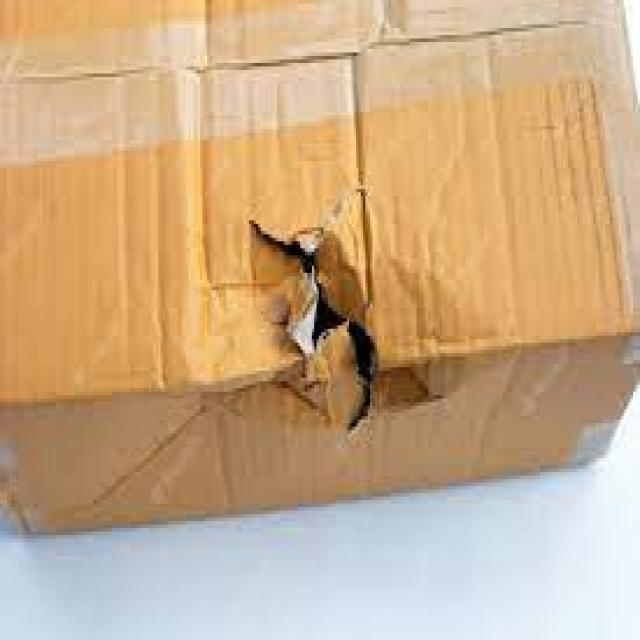Kardus kondisi bagus: (1, 2, 638, 538)
